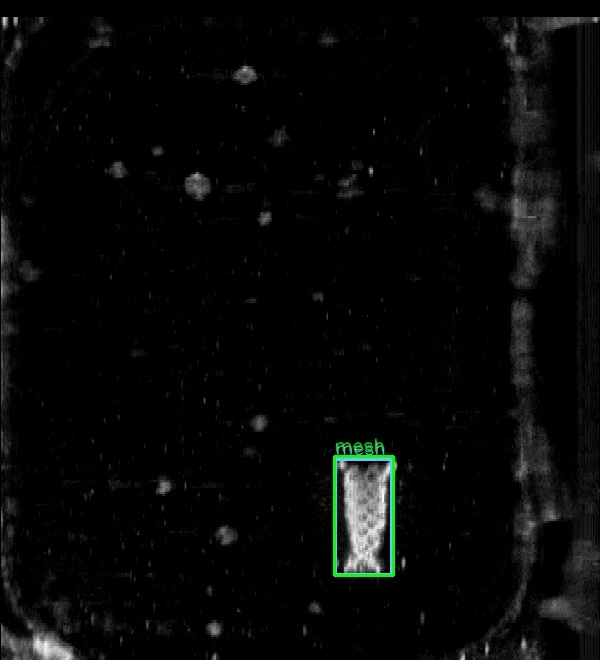mesh: (335, 459, 391, 574)
